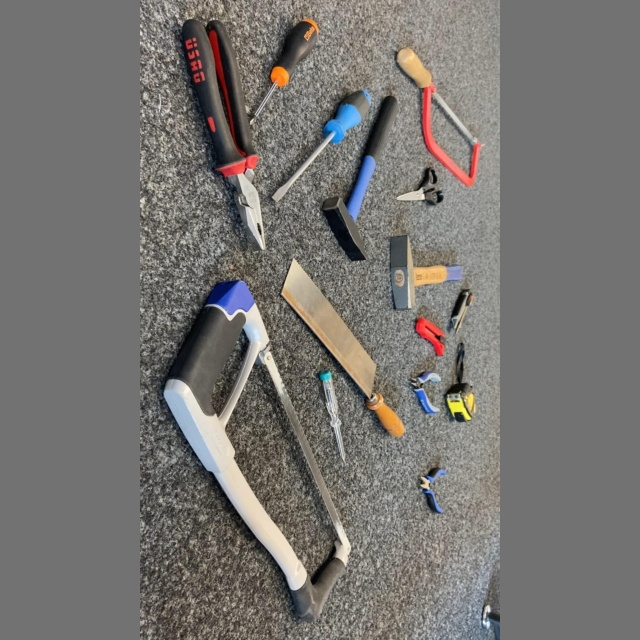scissor: (395, 165, 448, 209)
screwdriver: (268, 87, 376, 207), (249, 17, 322, 126), (317, 369, 349, 469)
